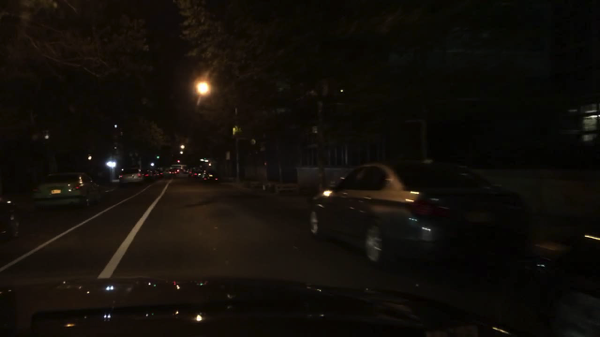bus: (170, 164, 186, 169)
car: (308, 158, 526, 276), (531, 208, 599, 337), (32, 172, 102, 210), (0, 197, 21, 240), (119, 165, 143, 185), (143, 170, 164, 181), (202, 170, 219, 181), (188, 169, 198, 179), (169, 168, 180, 177), (195, 170, 203, 180), (157, 166, 164, 172), (164, 168, 171, 174), (183, 169, 189, 174)
traffic light: (156, 155, 160, 161)
